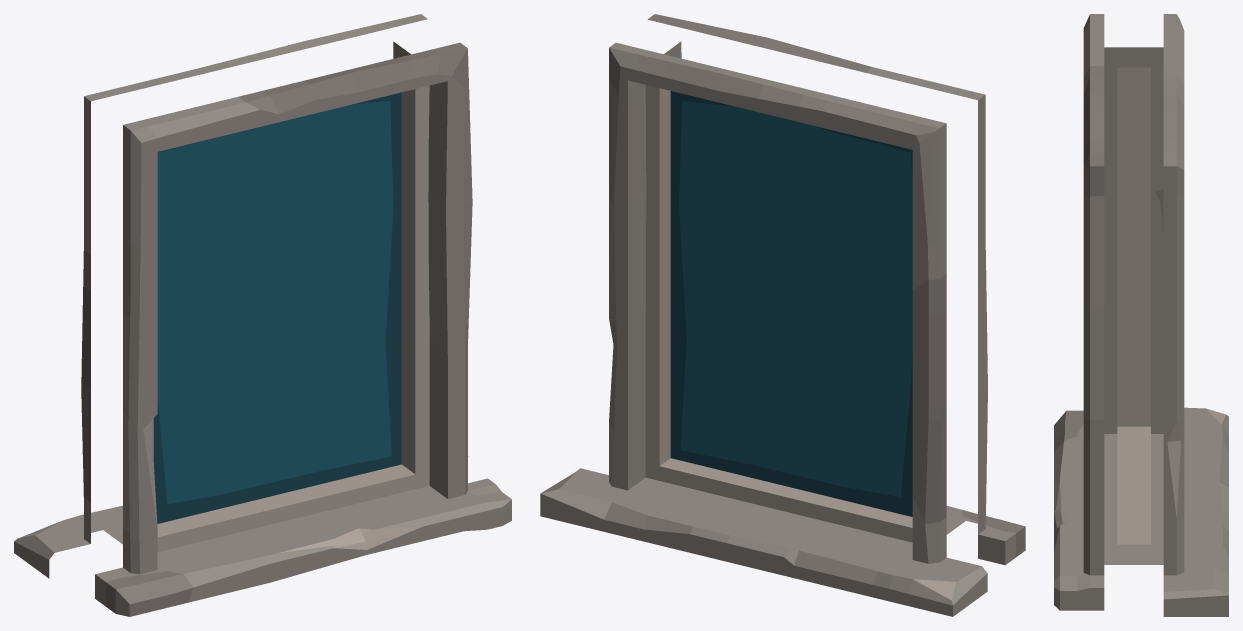
Rendered from SM_Window_C.gltf.
3 views of the same model, side by side, from view 1: azimuth 30°, elevation 25°; view 2: azimuth 150°, elevation 25°; view 3: azimuth 270°, elevation 25° (orthographic). The views are drawn at different scales.
Visible parts, largest first — view 1: SM_Window_C; view 2: SM_Window_C; view 3: SM_Window_C.
Part boxes in pixels (x1,y1,x2,y2): SM_Window_C: [14, 14, 511, 616]; SM_Window_C: [540, 14, 1025, 616]; SM_Window_C: [1054, 14, 1228, 616].
Size of the model in its own units: 1.52 by 1.62 by 0.59.
Materials: 2 (2 with a texture image).
